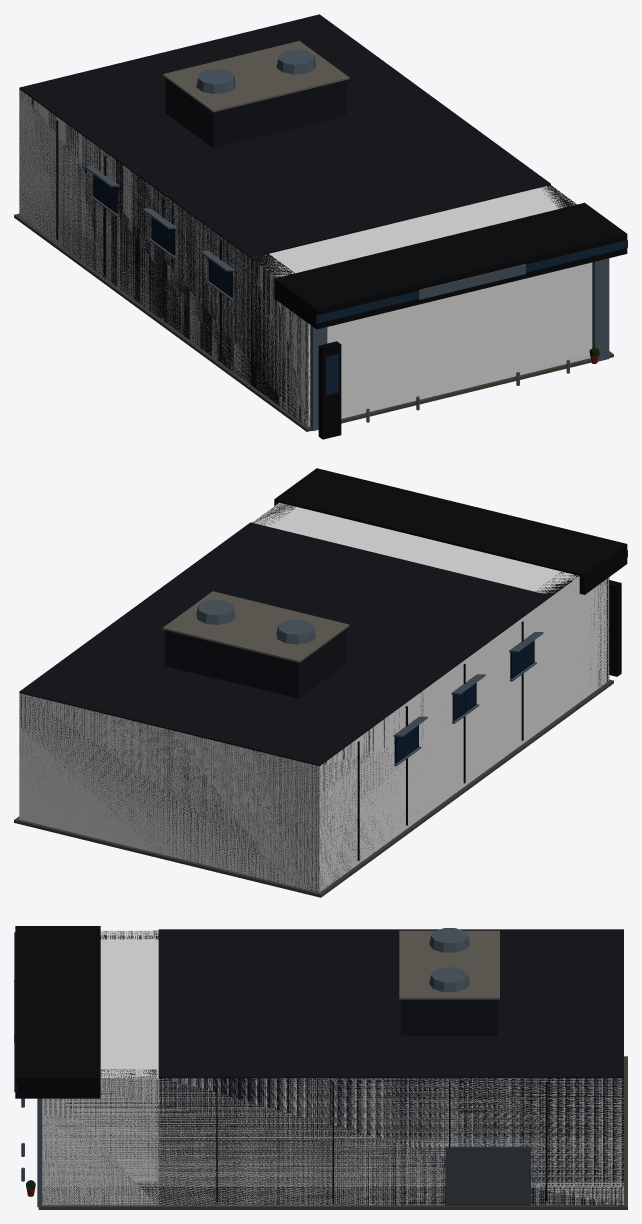
The model's file is B13_showroom_auto.glb.
The picture shows the model from 3 angles, top to bottom: view 1: azimuth 30°, elevation 25°; view 2: azimuth 150°, elevation 25°; view 3: azimuth 270°, elevation 25°; orthographic projection.
Parts seen in each view (by area): view 1: LOD0, COL_Main; view 2: LOD0, COL_Main; view 3: LOD0, COL_Main.
Part boxes in pixels (bbox=[...]): LOD0: bbox=[14, 14, 627, 439]; COL_Main: bbox=[19, 89, 592, 426]; LOD0: bbox=[14, 468, 627, 897]; COL_Main: bbox=[19, 502, 608, 892]; LOD0: bbox=[14, 926, 627, 1209]; COL_Main: bbox=[42, 930, 623, 1205].
Size of what is drawn, in the model's own units: 18.84 by 10.2 by 31.67.
